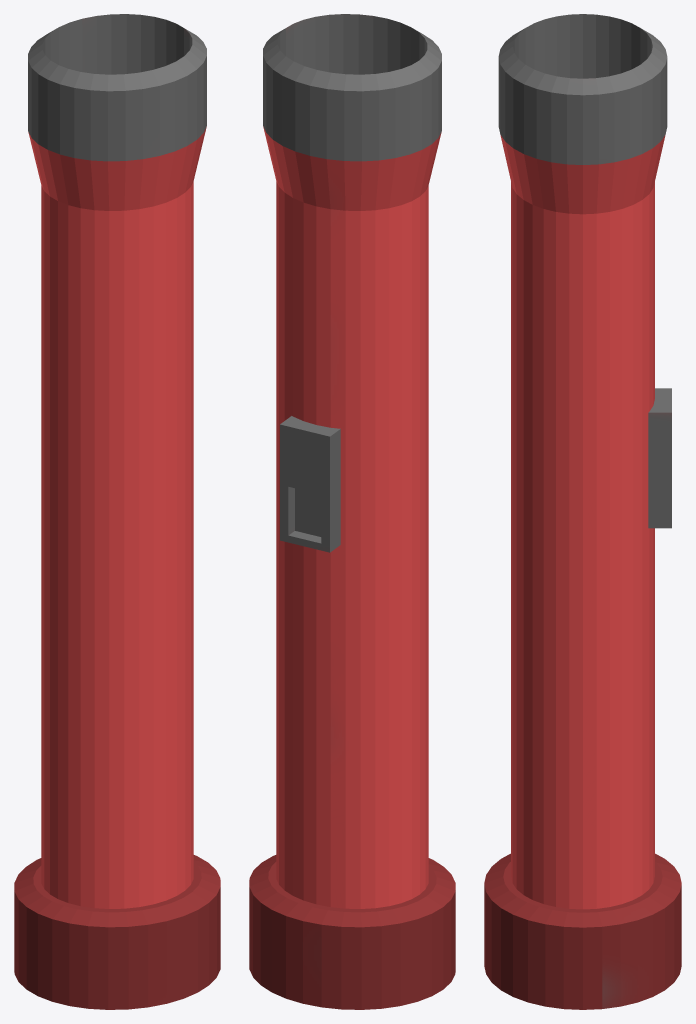
The model's file is RlauncherT 1.fbx.
3 views of the same model, side by side, from view 1: azimuth 30°, elevation 25°; view 2: azimuth 150°, elevation 25°; view 3: azimuth 270°, elevation 25° (orthographic).
Parts seen in each view (by area): view 1: Cylinder; view 2: Cylinder; view 3: Cylinder.
Part boxes in pixels (box(x1,y1,x2,y2)): Cylinder: box(14, 14, 220, 1009); Cylinder: box(249, 14, 455, 1009); Cylinder: box(484, 14, 681, 1009).
Size of the model in its own units: 81.59 by 396 by 77.07.
1 material, 1 textured.
